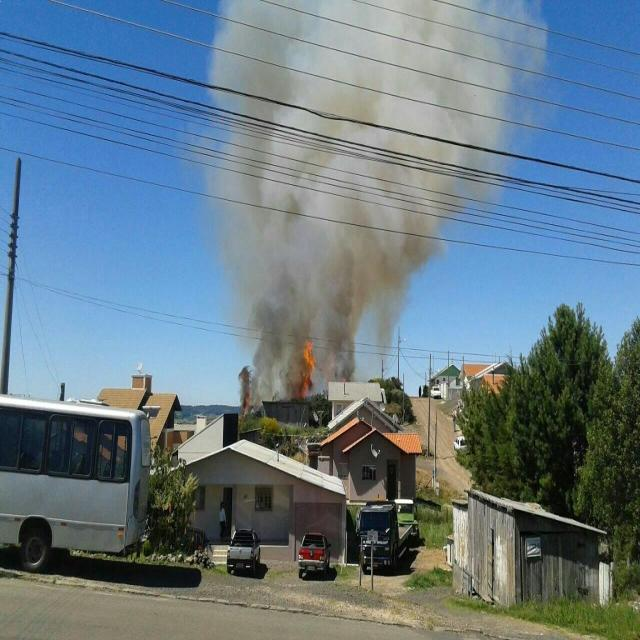Fire: (295, 328, 319, 404)
